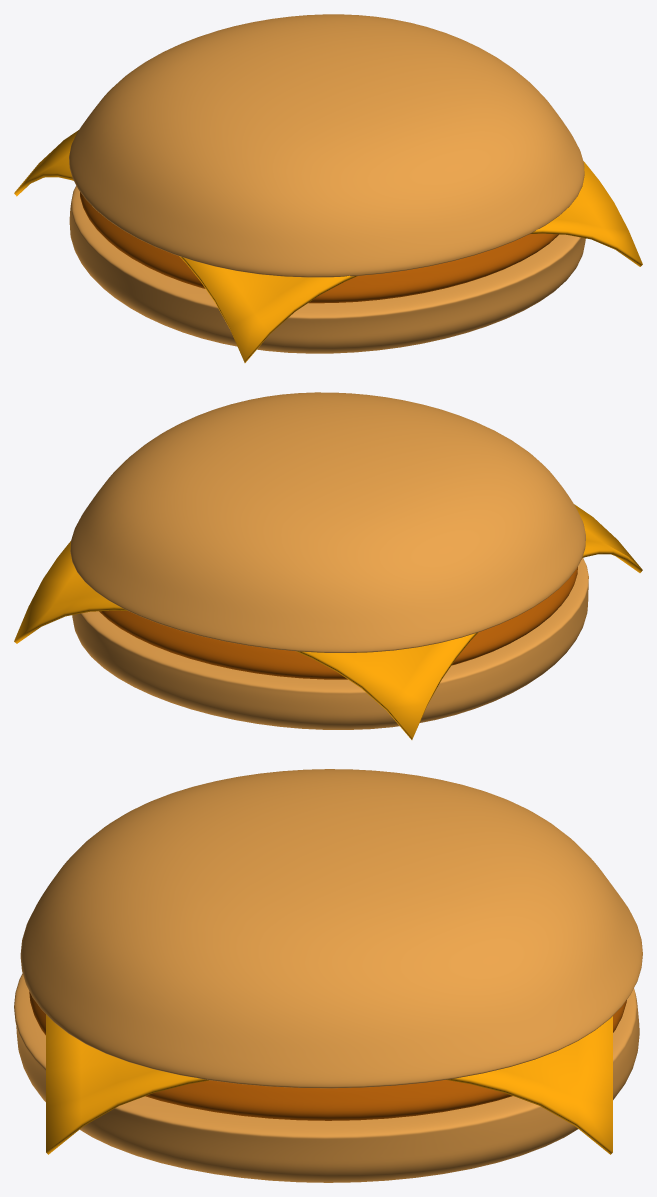
The model's file is hamburger.glb.
The picture shows the model from 3 angles, top to bottom: view 1: azimuth 30°, elevation 25°; view 2: azimuth 150°, elevation 25°; view 3: azimuth 270°, elevation 25°; orthographic projection. The views are drawn at different scales.
Parts seen in each view (by area): view 1: Cube.003, Cube.001, Plane, Cube.002; view 2: Cube.003, Cube.001, Plane, Cube.002; view 3: Cube.003, Cube.001, Plane, Cube.002.
Part boxes in pixels (bbox=[...]): Cube.003: bbox=[69, 14, 584, 277]; Cube.001: bbox=[69, 186, 585, 353]; Plane: bbox=[14, 130, 642, 362]; Cube.002: bbox=[80, 192, 558, 303]; Cube.003: bbox=[70, 392, 585, 652]; Cube.001: bbox=[72, 558, 588, 729]; Plane: bbox=[14, 504, 642, 739]; Cube.002: bbox=[99, 567, 577, 679]; Cube.003: bbox=[20, 769, 642, 1088]; Cube.001: bbox=[14, 973, 639, 1182]; Plane: bbox=[46, 1014, 612, 1154]; Cube.002: bbox=[29, 991, 626, 1120].
Bounding box in the file's own units: 9.13 × 4.16 × 9.2.
